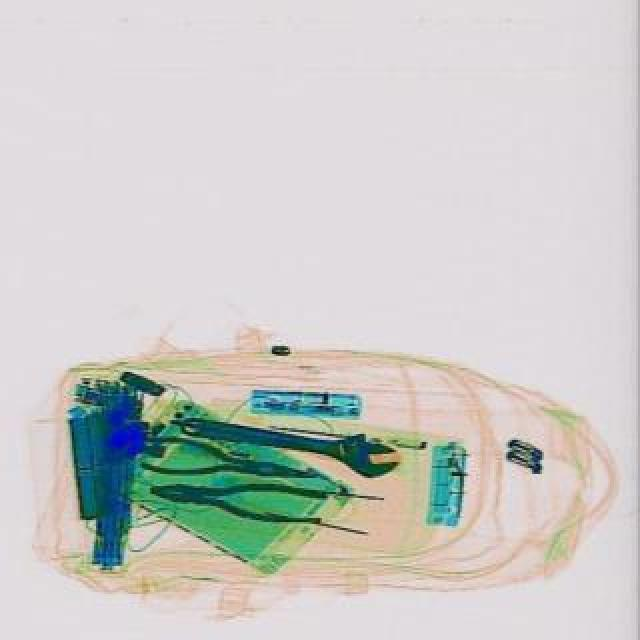scissors: (178, 400, 404, 480)
wrench: (140, 430, 324, 494), (148, 468, 332, 526)
